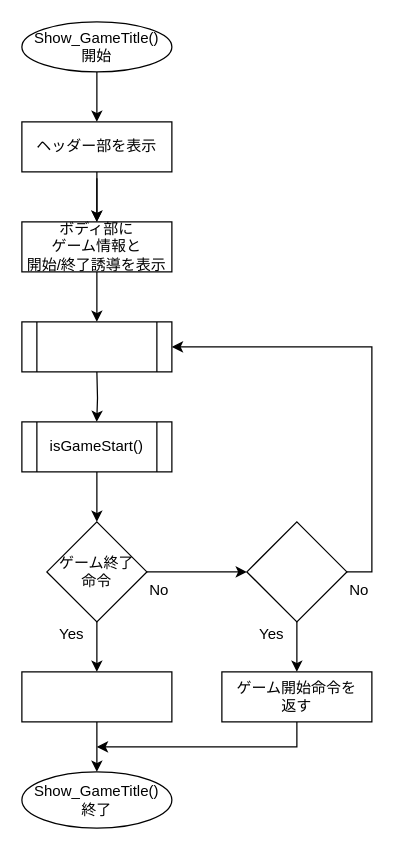
This 419x850 diagram has some shape labels left out. The shapes that lost their labels are listed below. From the top down, each one's centre as x and y in pixels, then its label:
At (96,346): "Get_Input()".
At (296,571): "ゲーム開始 命令".
At (96,696): "ゲーム終了命令を 返す".
